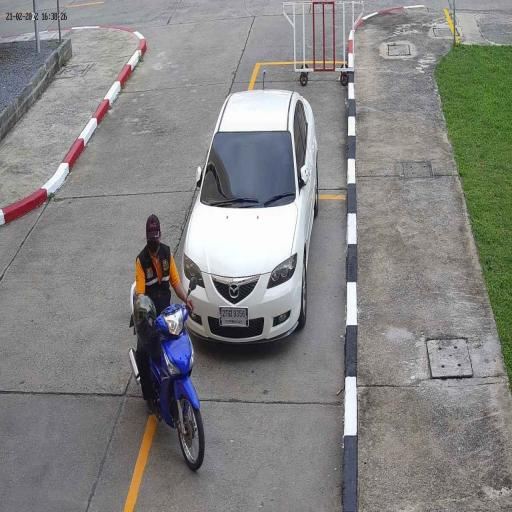car: (182, 89, 320, 346)
motorcycle: (128, 301, 207, 473)
